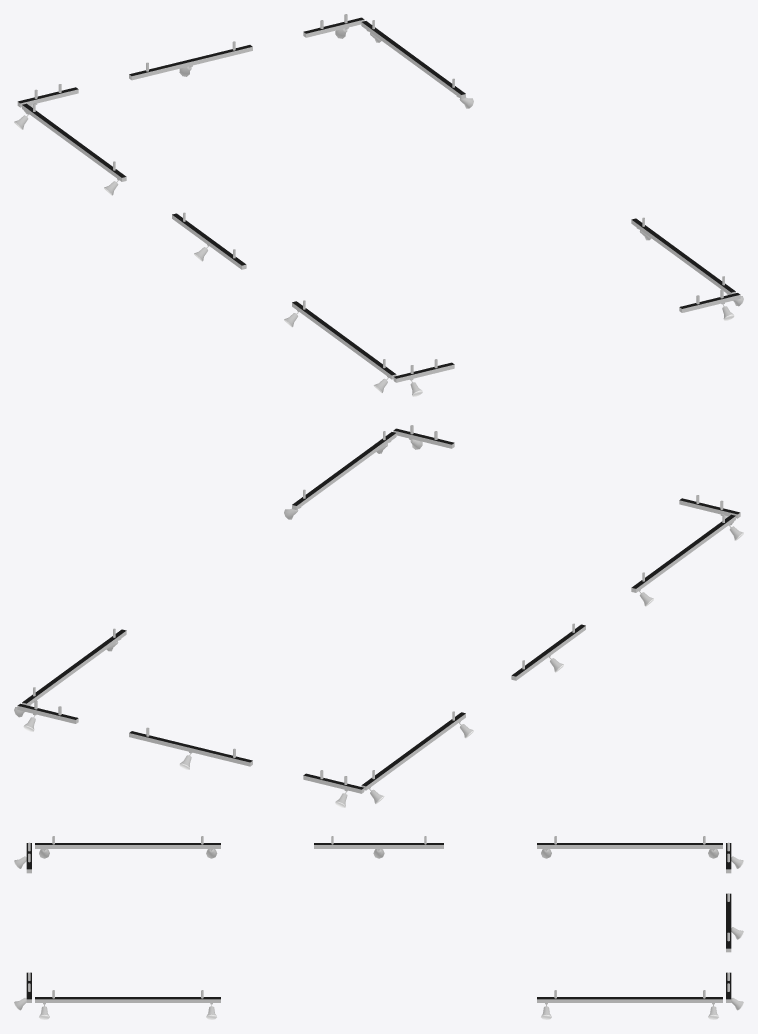
Rendered from northwest-light.glb.
3 renders of one model, top to bottom at view 1: azimuth 30°, elevation 25°; view 2: azimuth 150°, elevation 25°; view 3: azimuth 270°, elevation 25°, orthographic. The views are drawn at different scales.
Visible parts, largest first — view 1: Hall Northwest Track Lighting; view 2: Hall Northwest Track Lighting; view 3: Hall Northwest Track Lighting.
Part boxes in pixels (x1,y1,x2,y2): Hall Northwest Track Lighting: [14, 14, 743, 396]; Hall Northwest Track Lighting: [14, 425, 743, 807]; Hall Northwest Track Lighting: [14, 836, 743, 1019].
Size of the model in its own units: 7.09 by 0.5072 by 13.09.
1 material, 1 textured.
